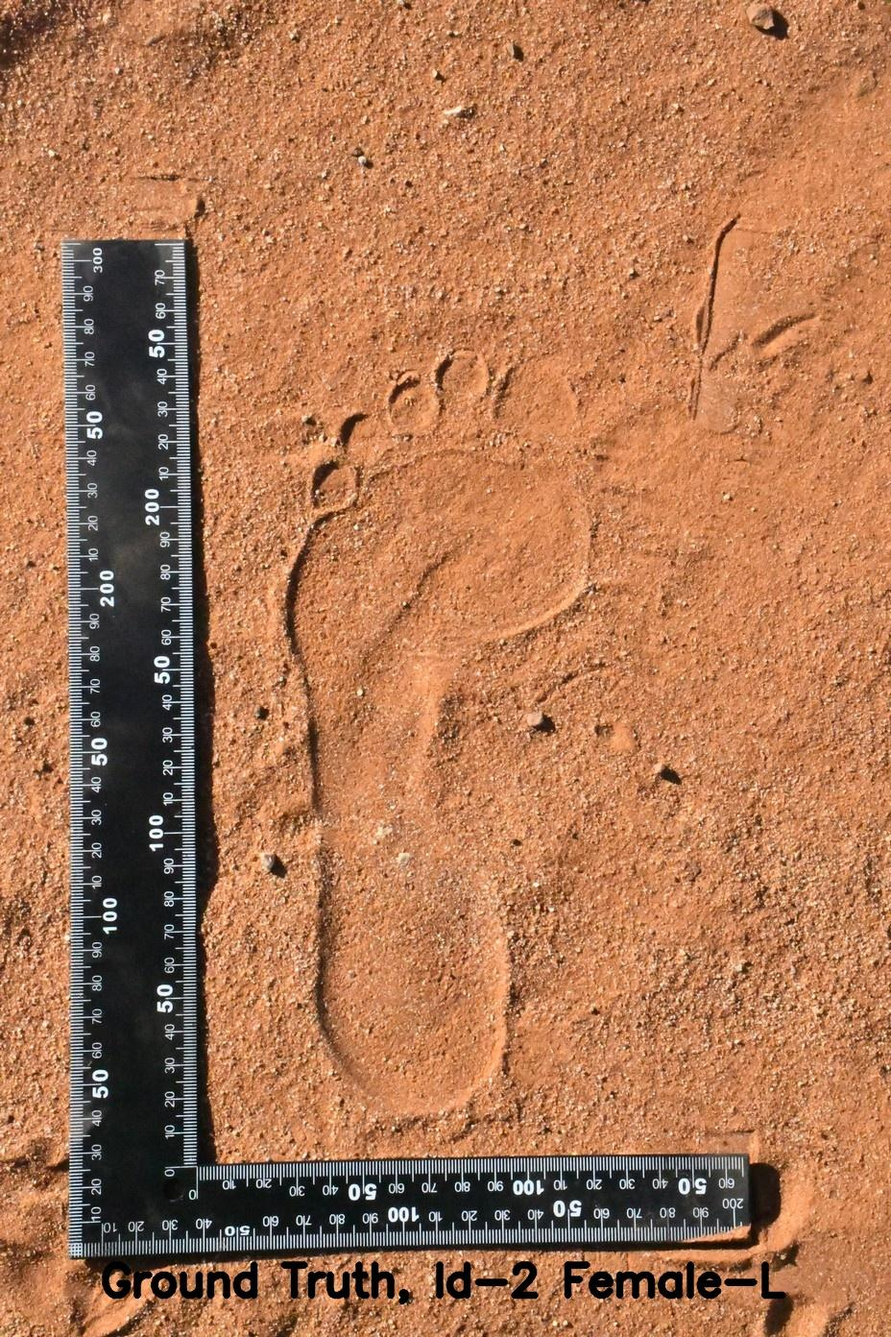human_foot_print: (244, 266, 647, 1146)
